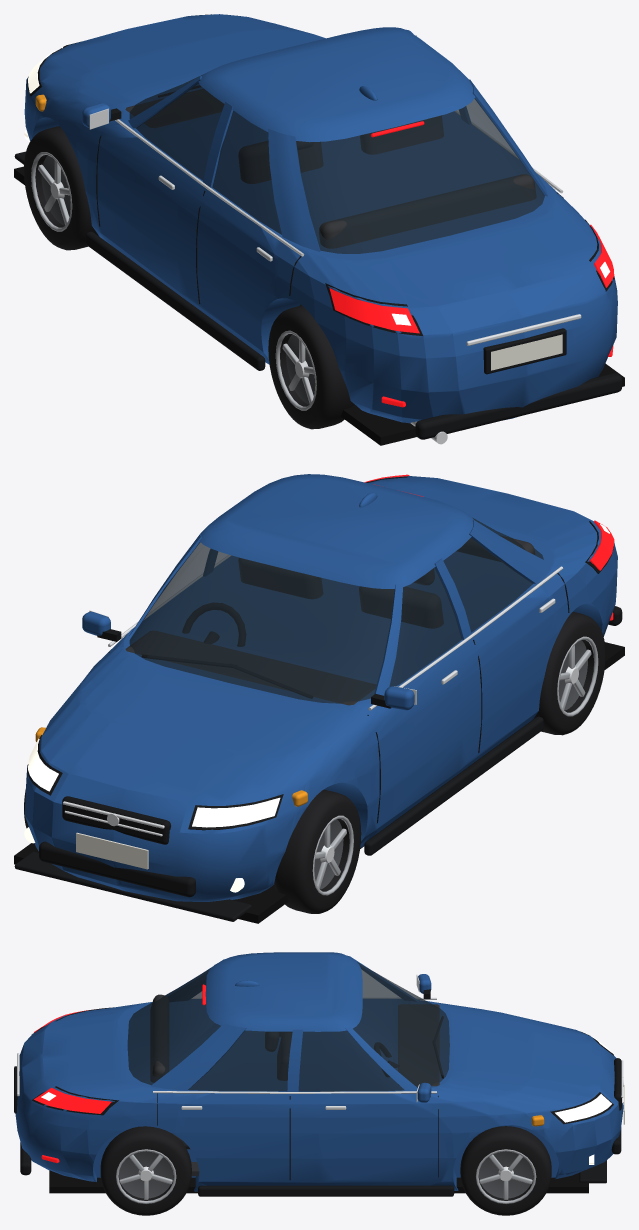
Rendered from sedan.glb.
3 views of the same model, one above another, from view 1: azimuth 30°, elevation 25°; view 2: azimuth 150°, elevation 25°; view 3: azimuth 270°, elevation 25° (orthographic). The views are drawn at different scales.
Visible parts, largest first — view 1: body_shell, glasshouse, roof, seat_rear_back, wheel_rl_tyre, wheel_fl_tyre, pillar_c_l, rear_diffuser, side_skirt_l, underbody, dashboard, seat_back_l (+15 smaller); view 2: body_shell, glasshouse, roof, wheel_fl_tyre, dashboard, wheel_rl_tyre, side_skirt_l, lower_intake, splitter, seat_back_l, grille, seat_back_r (+18 smaller); view 3: body_shell, glasshouse, roof, wheel_fr_tyre, wheel_rr_tyre, dashboard, side_skirt_r, pillar_c_r, underbody, seat_rear_back, wheel_fr_dish, wheel_rr_dish (+13 smaller).
Part boxes in pixels (x1,y1,x2,y2): body_shell: (24,14,617,423); glasshouse: (129,74,544,253); roof: (198,27,475,142); seat_rear_back: (319,174,536,248); wheel_rl_tyre: (268,305,353,429); wheel_fl_tyre: (24,126,97,250); pillar_c_l: (268,128,320,251); rear_diffuser: (415,373,622,439); side_skirt_l: (86,231,265,370); underbody: (14,166,624,445); dashboard: (125,89,223,127); seat_back_l: (238,141,322,183); body_shell: (24,476,617,901); glasshouse: (129,517,543,703); roof: (199,474,473,588); wheel_fl_tyre: (274,789,361,913); dashboard: (125,631,375,705); wheel_rl_tyre: (534,611,605,735); side_skirt_l: (364,716,543,855); lower_intake: (39,841,195,897); splitter: (14,851,251,921); seat_back_l: (359,586,443,628); grille: (62,796,170,844); seat_back_r: (238,558,322,598); body_shell: (15,999,623,1191); glasshouse: (127,962,449,1091); roof: (205,952,362,1031); wheel_fr_tyre: (460,1126,551,1215); wheel_rr_tyre: (100,1126,191,1215); dashboard: (398,1004,439,1086); side_skirt_r: (198,1185,454,1196); pillar_c_r: (150,1023,246,1090); underbody: (49,1170,588,1193); seat_rear_back: (150,994,168,1082); wheel_fr_dish: (478,1151,533,1198); wheel_rr_dish: (119,1151,173,1198).
Size of the model in its own units: 2.02 by 1.49 by 4.41.
